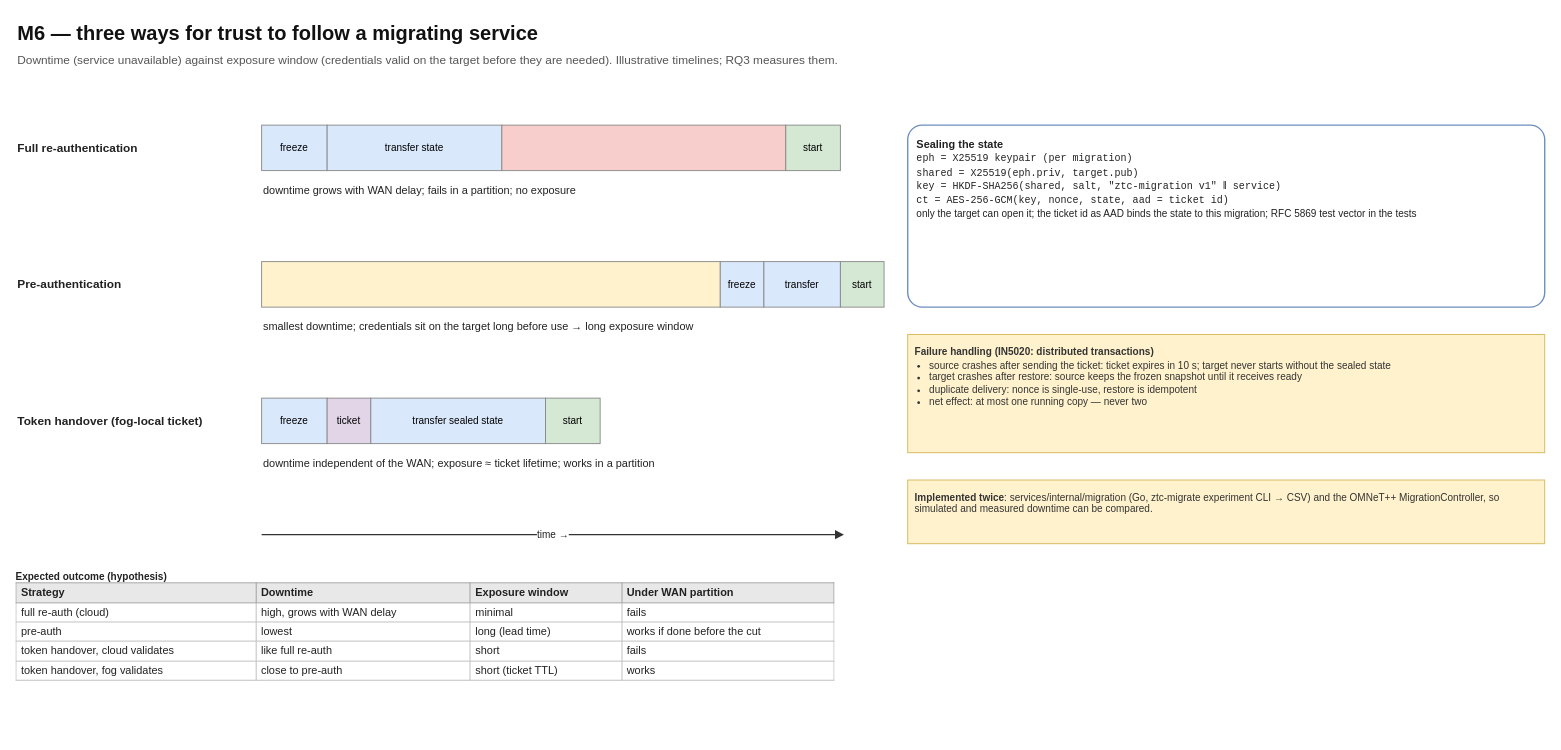
This 1561x750 diagram has some shape labels left out. The centre of each missing label's shape, as x and y in pixels:
"pre-auth on target" belongs at (x=490, y=284).
"re-auth via cloud (WAN RTT)" belongs at (x=643, y=147).
